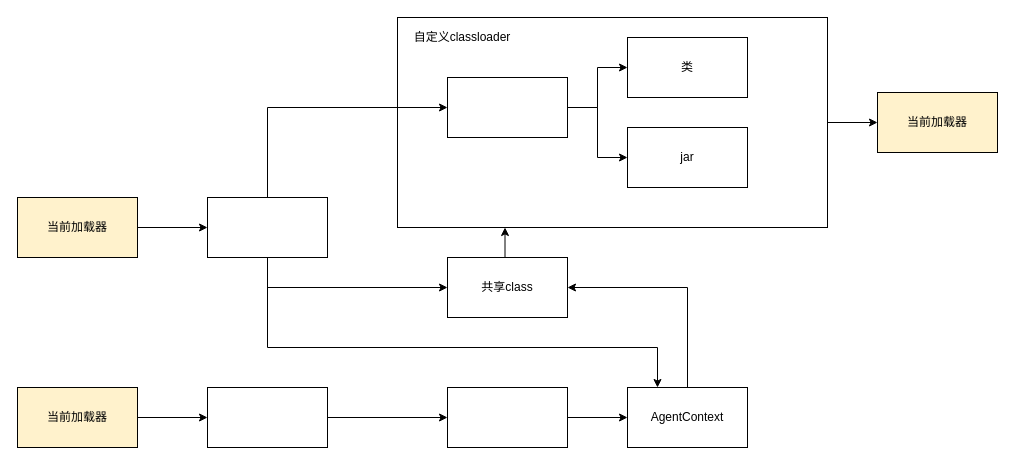
Image size: 1015x465. Some labels were removed from this diagram. Each missing label, with the centre of its shape:
"agent" belongs at point 267,227.
"私有class" belongs at point 507,107.
"调用" belongs at point 267,417.
"门面脚本" belongs at point 507,417.
